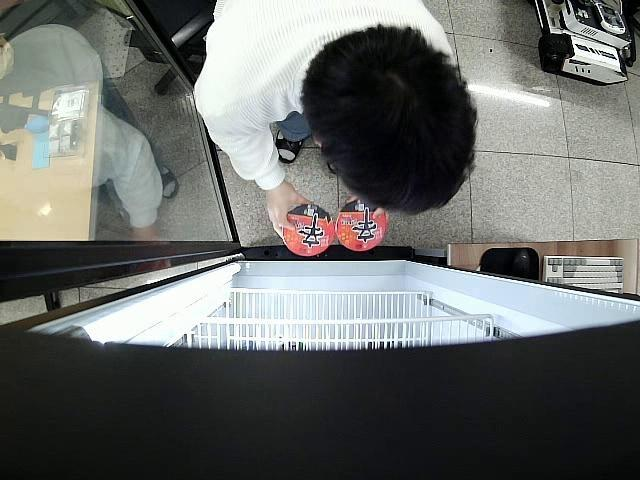01_ShinRamen_L: (281, 202, 335, 255), (337, 200, 387, 250)
